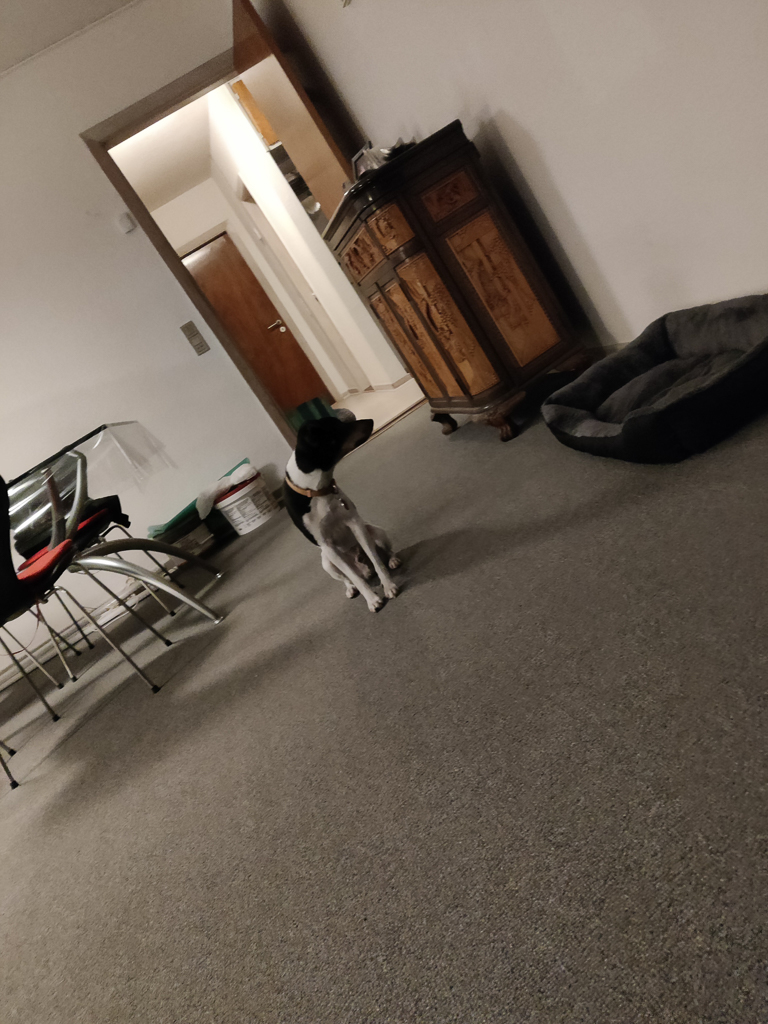Dog: (266, 401, 416, 620)
